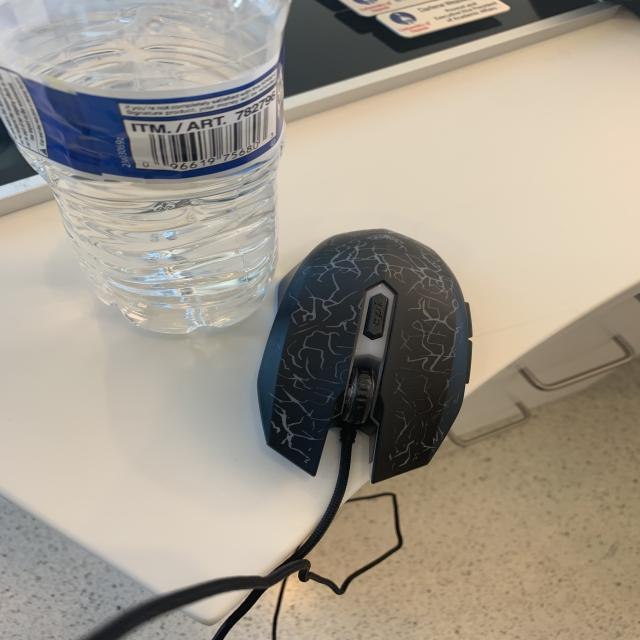Mouse: (256, 218, 475, 506)
